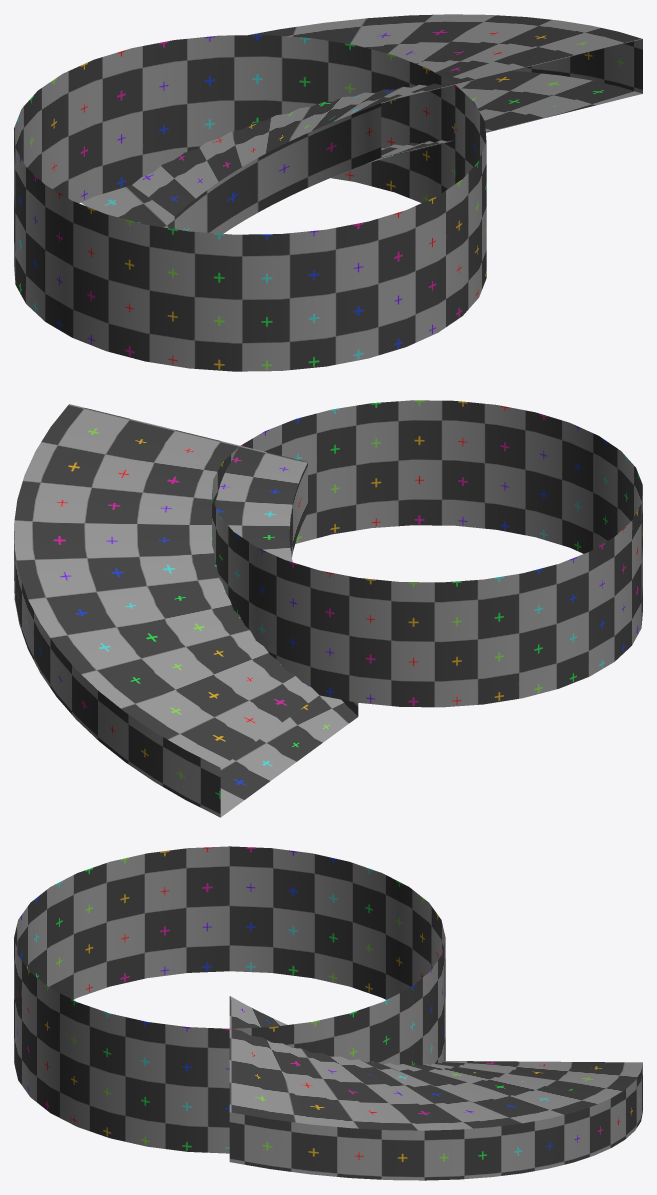
Rendered from spiral.glb.
The picture shows the model from 3 angles, top to bottom: view 1: azimuth 30°, elevation 25°; view 2: azimuth 150°, elevation 25°; view 3: azimuth 270°, elevation 25°; orthographic projection. The views are drawn at different scales.
Visible parts, largest first — view 1: Cylinder; view 2: Cylinder; view 3: Cylinder.
Part boxes in pixels (bbox=[...]): Cylinder: bbox=[14, 14, 642, 371]; Cylinder: bbox=[14, 400, 642, 817]; Cylinder: bbox=[14, 846, 642, 1180].
Bounding box in the file's own units: 75.99 × 23.29 × 75.99.
1 material, 1 textured.
